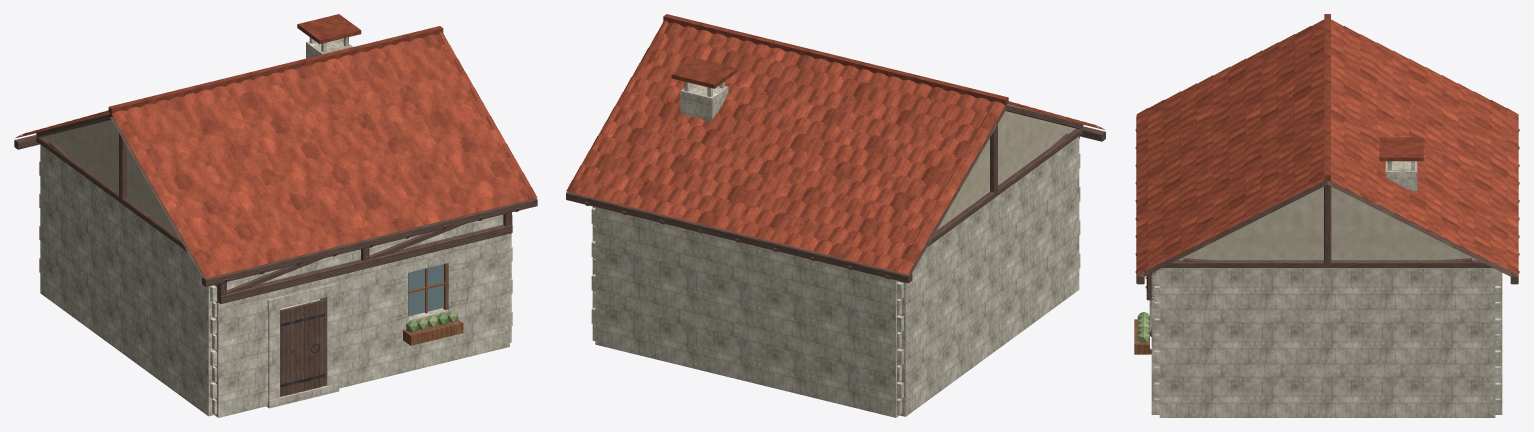
The model's file is B14_vivienda.glb.
The picture shows the model from 3 angles, left to right: view 1: azimuth 30°, elevation 25°; view 2: azimuth 150°, elevation 25°; view 3: azimuth 270°, elevation 25°; orthographic projection. The views are drawn at different scales.
Parts seen in each view (by area): view 1: AUR034_B14_clay_tiles, AUR034_B14_lower_masonry, AUR034_B14_gable-1, AUR034_B14_entry_leaf0, AUR034_B14_sill, AUR034_B14_fascia-1, AUR034_B14_ridge, AUR034_B14_window0_glazing, AUR034_B14_gable_tie-1, AUR034_B14_cowl, AUR034_B14_entry_pier1, AUR034_B14_dressed_corner_stones (+10 smaller); view 2: AUR034_B14_lower_masonry, AUR034_B14_clay_tiles, AUR034_B14_gable-1, AUR034_B14_fascia1, AUR034_B14_ridge, AUR034_B14_gable_tie-1, AUR034_B14_dressed_corner_stones, AUR034_B14_chimney, AUR034_B14_cowl, AUR034_B14_roof_sheathing, AUR034_B14_gable_rake-1-1, AUR034_B14_gable_kingpost-1; view 3: AUR034_B14_clay_tiles, AUR034_B14_lower_masonry, AUR034_B14_gable1, AUR034_B14_gable_tie1, AUR034_B14_roof_sheathing, AUR034_B14_dressed_corner_stones, AUR034_B14_ridge, AUR034_B14_cowl, AUR034_B14_chimney, AUR034_B14_gable_kingpost1.
Part boxes in pixels (bbox=[...]): AUR034_B14_clay_tiles: bbox=[15, 32, 537, 278]; AUR034_B14_lower_masonry: bbox=[40, 144, 511, 417]; AUR034_B14_gable-1: bbox=[43, 113, 177, 235]; AUR034_B14_entry_leaf0: bbox=[280, 299, 326, 396]; AUR034_B14_sill: bbox=[217, 225, 512, 303]; AUR034_B14_fascia-1: bbox=[202, 198, 537, 286]; AUR034_B14_ridge: bbox=[108, 26, 443, 114]; AUR034_B14_window0_glazing: bbox=[408, 264, 443, 316]; AUR034_B14_gable_tie-1: bbox=[36, 136, 187, 251]; AUR034_B14_cowl: bbox=[297, 14, 361, 44]; AUR034_B14_entry_pier1: bbox=[321, 294, 338, 386]; AUR034_B14_dressed_corner_stones: bbox=[39, 161, 512, 414]; AUR034_B14_lower_masonry: bbox=[592, 136, 1079, 417]; AUR034_B14_clay_tiles: bbox=[566, 20, 1104, 274]; AUR034_B14_gable-1: bbox=[937, 104, 1075, 229]; AUR034_B14_fascia1: bbox=[566, 191, 912, 283]; AUR034_B14_ridge: bbox=[663, 14, 1008, 105]; AUR034_B14_gable_tie-1: bbox=[927, 128, 1082, 246]; AUR034_B14_dressed_corner_stones: bbox=[591, 153, 1080, 414]; AUR034_B14_chimney: bbox=[680, 83, 728, 120]; AUR034_B14_cowl: bbox=[671, 57, 737, 88]; AUR034_B14_roof_sheathing: bbox=[909, 107, 1095, 273]; AUR034_B14_gable_rake-1-1: bbox=[1004, 104, 1083, 129]; AUR034_B14_gable_kingpost-1: bbox=[990, 124, 997, 195]; AUR034_B14_clay_tiles: bbox=[1136, 19, 1518, 275]; AUR034_B14_lower_masonry: bbox=[1151, 269, 1502, 417]; AUR034_B14_gable1: bbox=[1160, 186, 1494, 268]; AUR034_B14_gable_tie1: bbox=[1159, 260, 1495, 267]; AUR034_B14_roof_sheathing: bbox=[1144, 181, 1511, 276]; AUR034_B14_dressed_corner_stones: bbox=[1154, 286, 1500, 413]; AUR034_B14_ridge: bbox=[1324, 14, 1330, 180]; AUR034_B14_cowl: bbox=[1379, 137, 1423, 161]; AUR034_B14_chimney: bbox=[1385, 161, 1417, 192]; AUR034_B14_gable_kingpost1: bbox=[1324, 184, 1331, 265].
Size of the model in its own units: 7.96 by 5.78 by 8.03.
12 materials, 8 textured.
